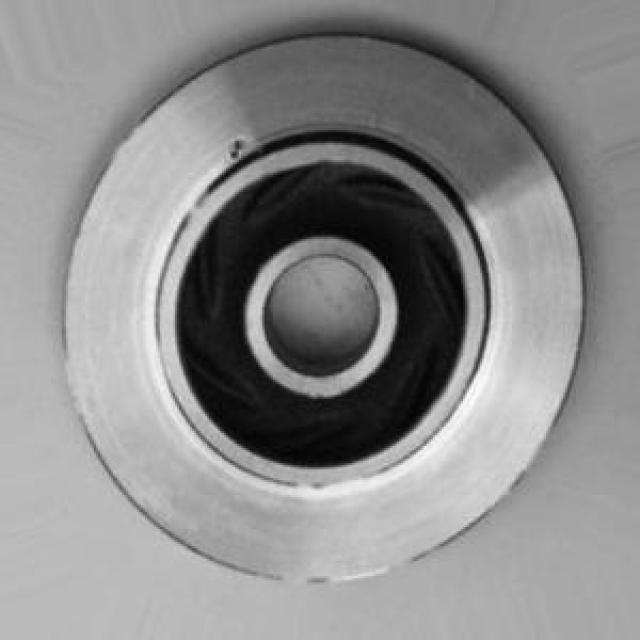Defect: (220, 133, 255, 167)
